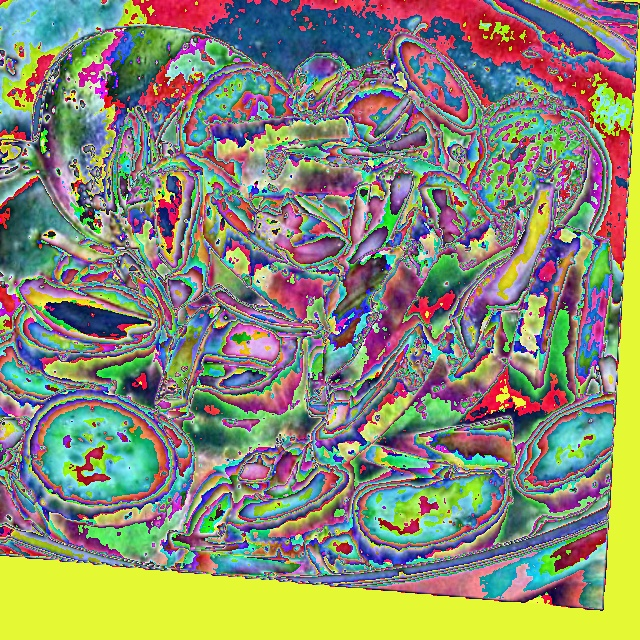background: (0, 30, 617, 578)
